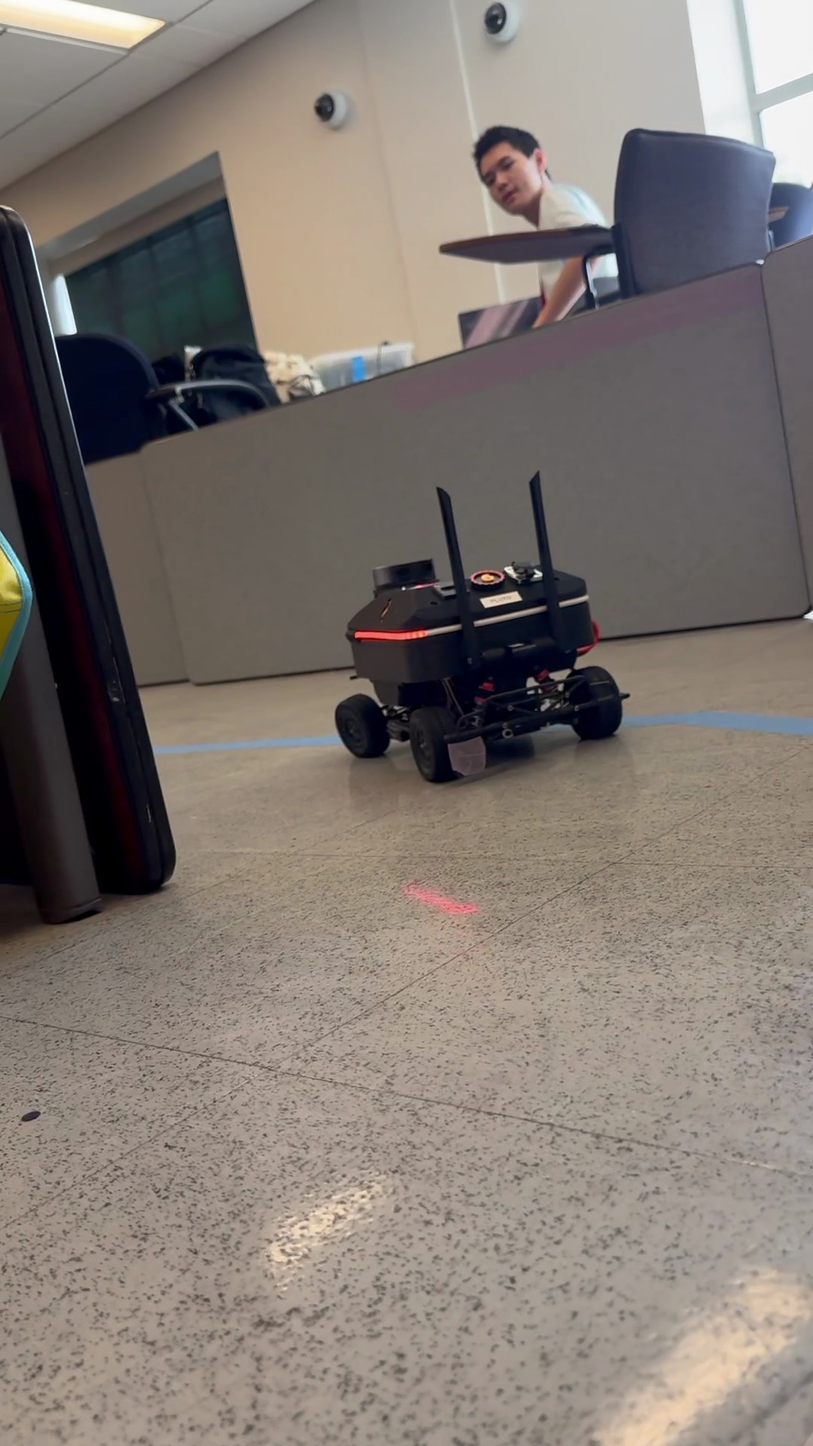racecar: (336, 476, 627, 781)
